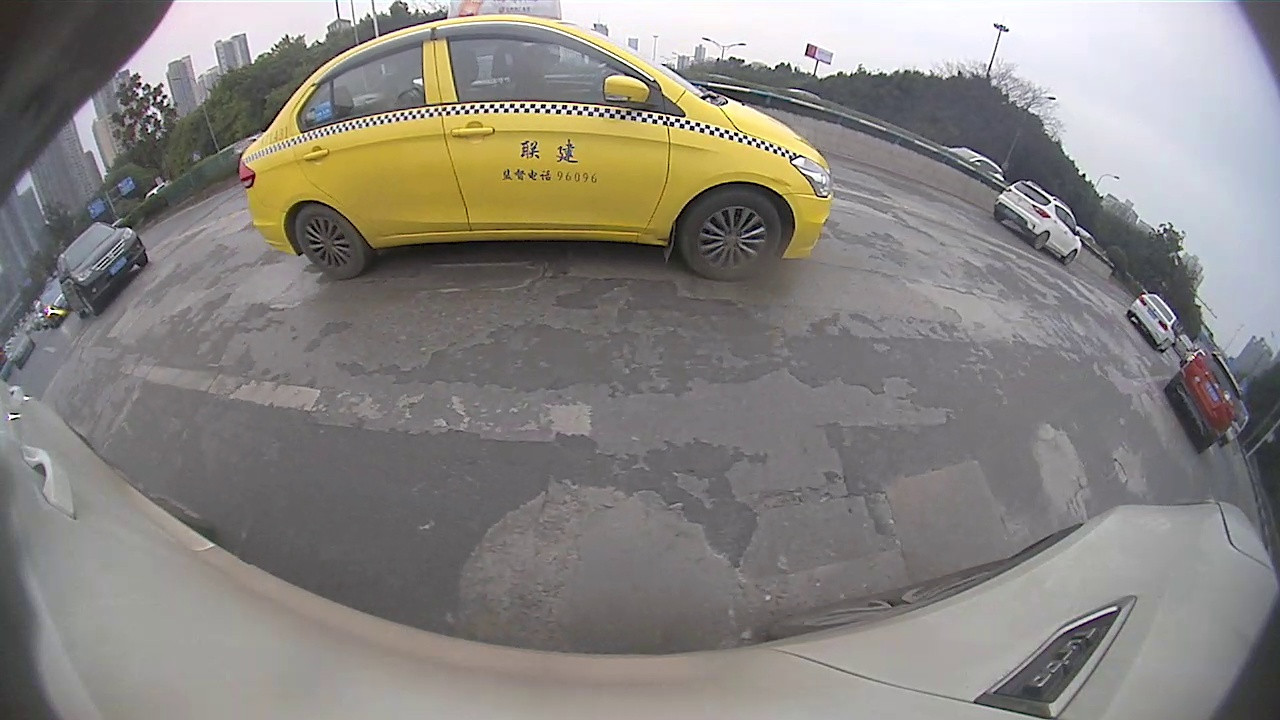car: (237, 1, 832, 282), (55, 223, 147, 318), (1166, 350, 1243, 453), (993, 179, 1080, 265), (1126, 291, 1177, 352), (37, 283, 74, 327)
front: (682, 188, 780, 281), (1064, 248, 1081, 268)
rear: (296, 205, 367, 280), (1032, 231, 1052, 254)
